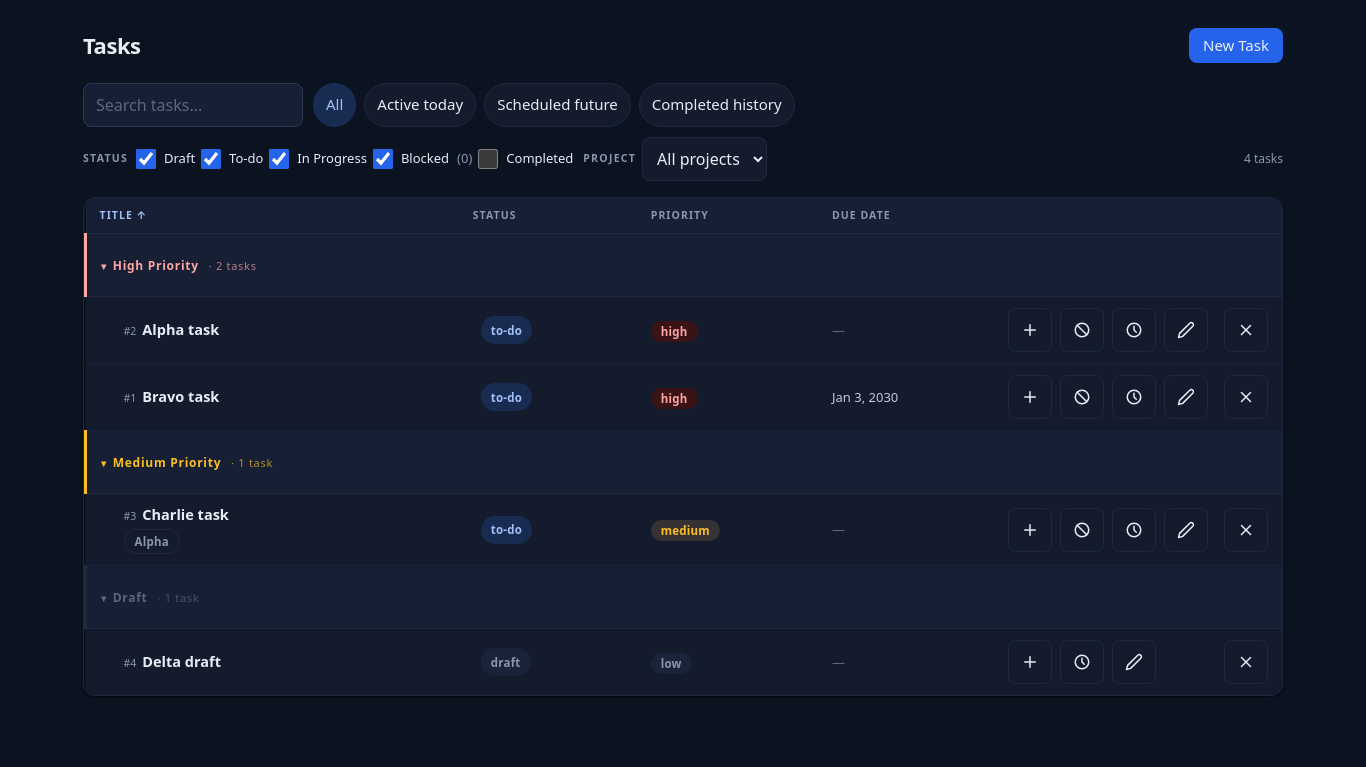
TasksPage on mobile (#317) › edit and new panel (AC32-34) › finds the Edit button after a priority change remounts the row
Click the button named "Edit" in the row of "Alpha task" at (1186, 330), box [1164,308,1208,352]
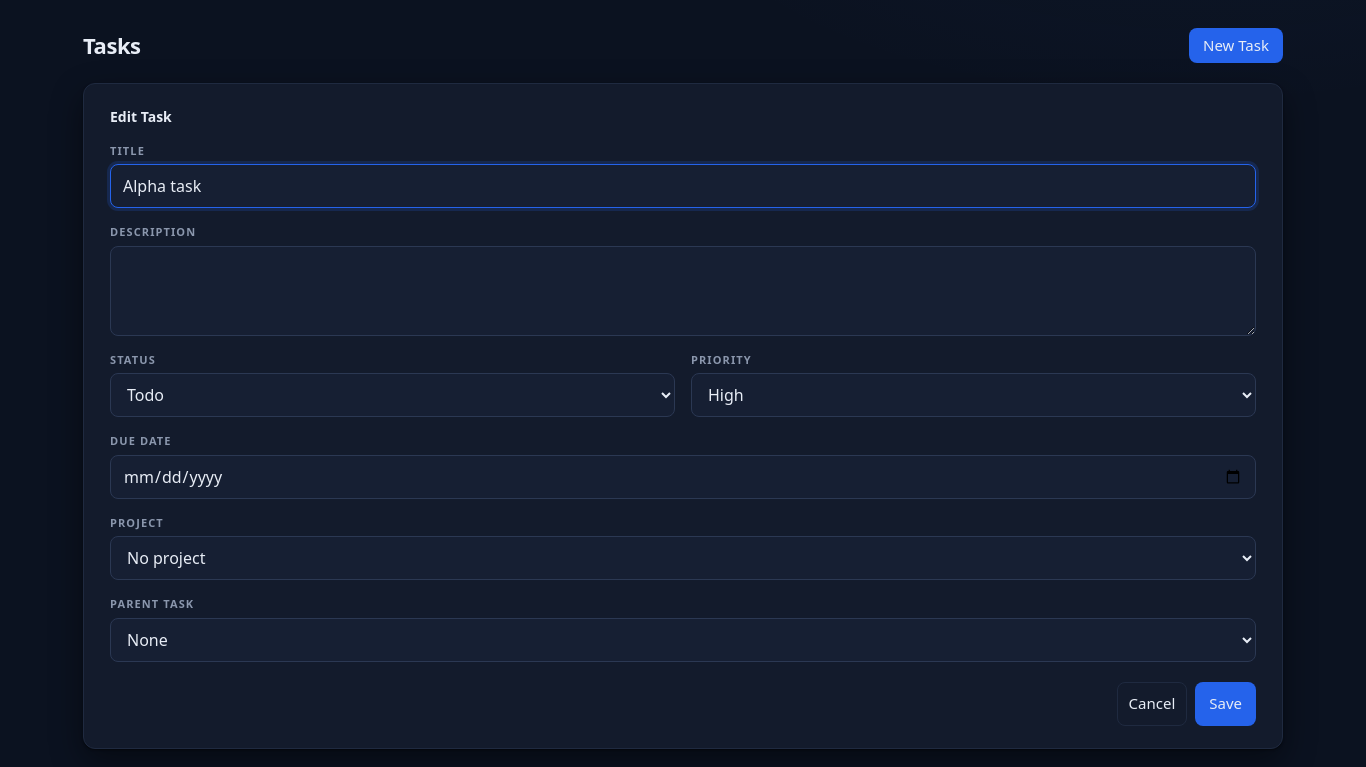
Click the button "Save" at (1226, 704), box [1195,682,1256,726]
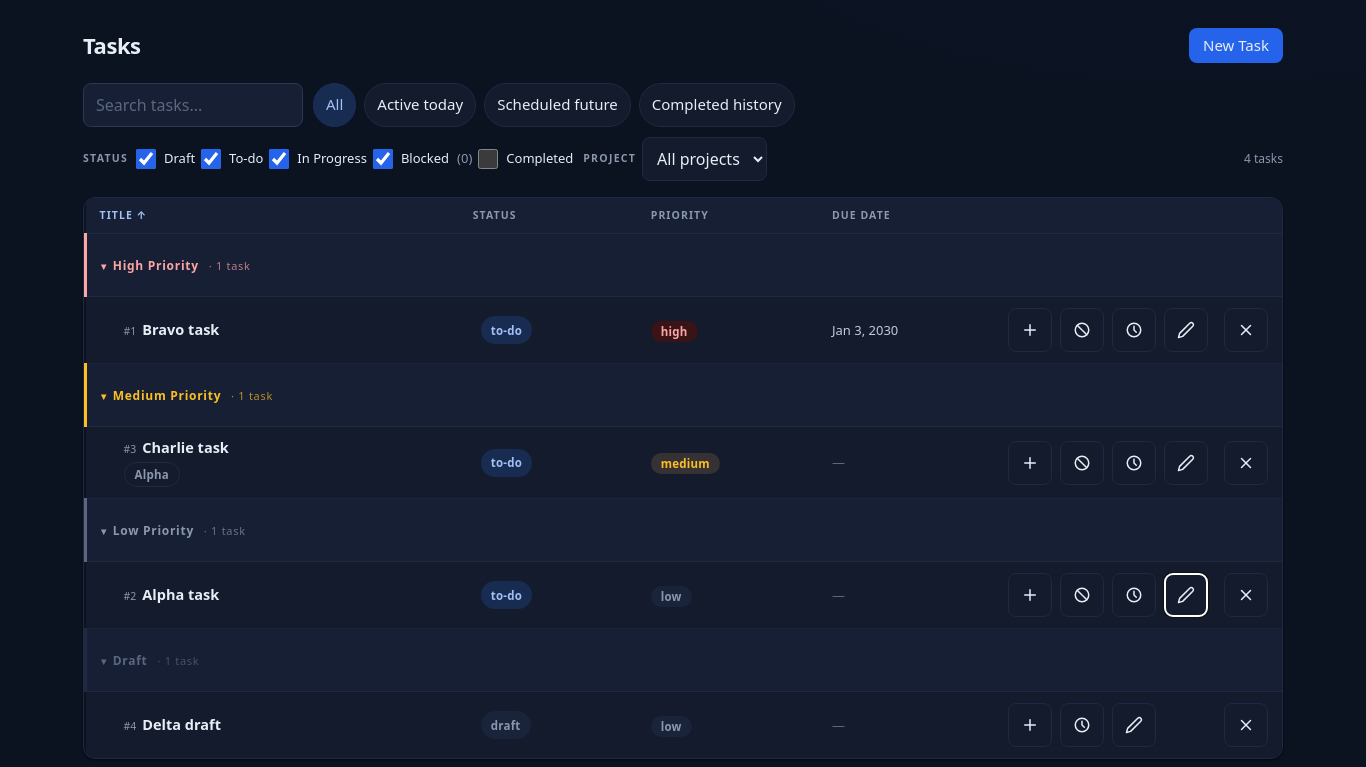
Now the heading "Edit Task" is gone
